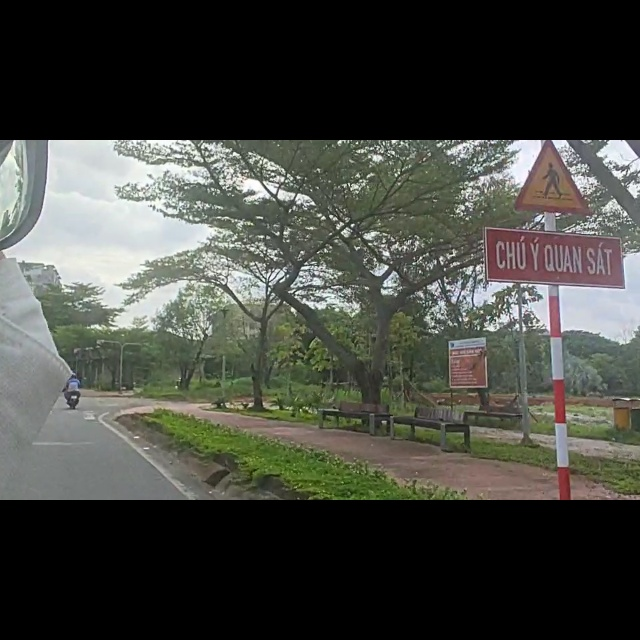bien_nguy_hiem: (510, 2, 599, 137)
